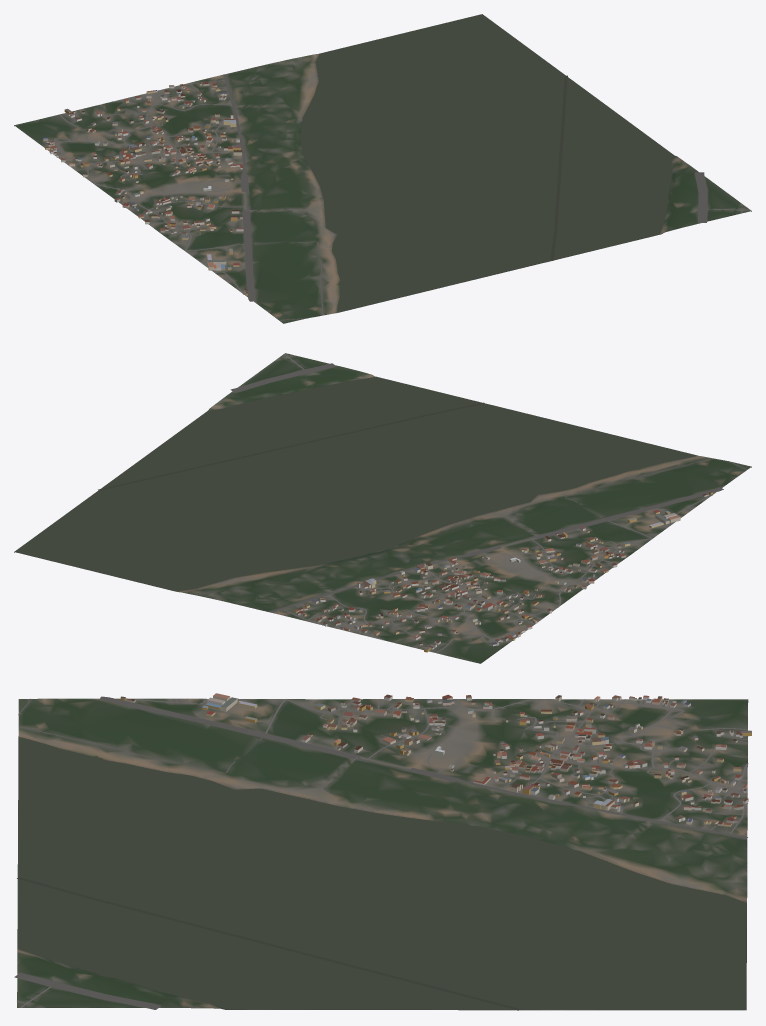
3 renders of one model, top to bottom at view 1: azimuth 30°, elevation 25°; view 2: azimuth 150°, elevation 25°; view 3: azimuth 270°, elevation 25°, orthographic. The views are drawn at different scales.
Parts seen in each view (by area): view 1: water, ground, buildings, roads; view 2: water, ground, buildings, roads; view 3: water, ground, buildings, roads.
Part boxes in pixels (x1,y1,x2,y2): water: (300,14,674,312); ground: (14,14,751,323); buildings: (43,81,247,295); roads: (53,74,750,320); water: (15,376,697,591); ground: (14,353,751,663); buildings: (293,491,713,652); roads: (230,354,747,652); water: (17,737,746,1010); ground: (17,698,748,1010); buildings: (120,693,751,826); roads: (14,696,748,1009).
Bounding box in the file's own units: 1419 × 21.68 × 1418.
